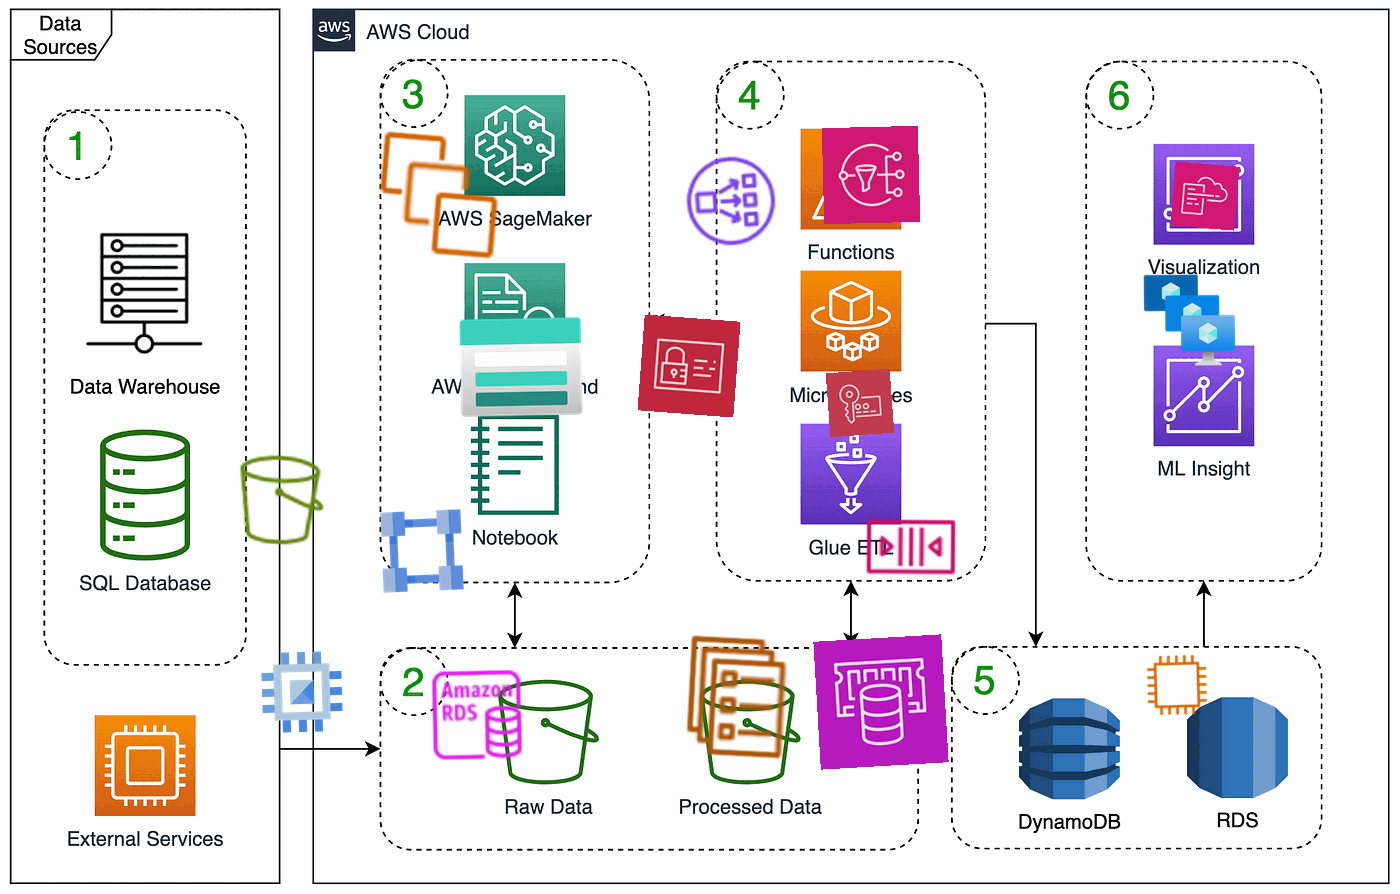aws_amazon_elasticache: (813, 634, 949, 769)
aws_amazon_simple_notification_service: (821, 125, 921, 225)
aws_aurora_amazon_rds_instance: (427, 665, 527, 765)
aws_cloudformation: (1170, 161, 1240, 231)
aws_ec2_instance: (1144, 652, 1210, 718)
aws_ec2_instances: (369, 125, 509, 265)
aws_elastic_container_service_service: (669, 629, 805, 765)
aws_elastic_load_balancing_network_load_balancer: (680, 150, 782, 252)
aws_identity_and_access_management: (637, 314, 741, 418)
aws_key_management_service: (824, 368, 895, 438)
aws_simple_queue_service_queue: (862, 497, 960, 595)
aws_simple_storage_service_bucket: (230, 449, 332, 551)
azure_storage_accounts: (455, 301, 587, 433)
azure_vm_scale_sets: (1139, 269, 1237, 367)
gcp_compute_engine: (252, 642, 352, 742)
gcp_virtual_private_cloud: (372, 501, 472, 601)
